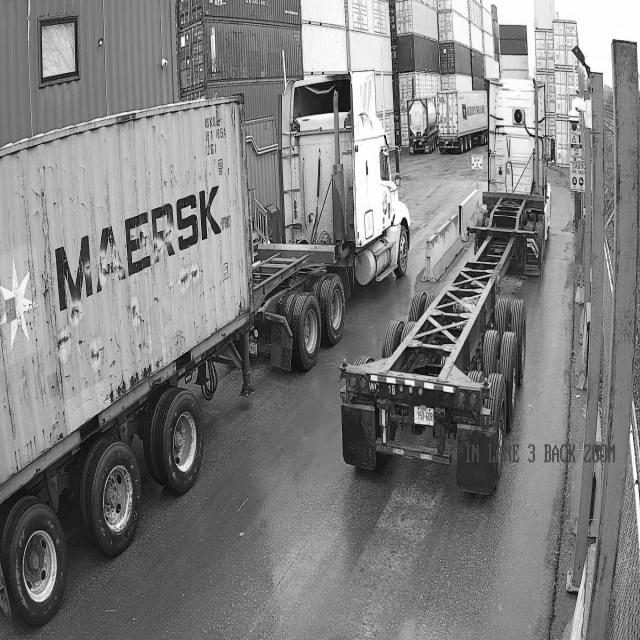license_plate: (410, 404, 436, 427)
truck_with_container: (0, 76, 410, 625)
truck_without_container: (340, 79, 551, 494)
